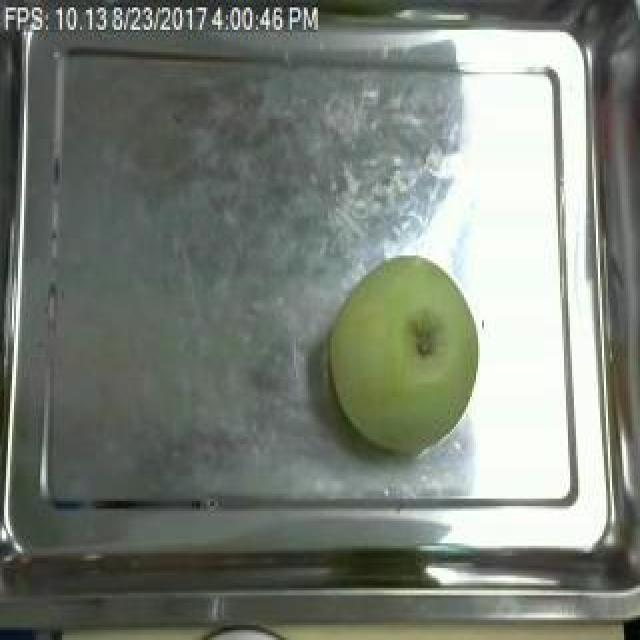Rotten Apple: (321, 246, 487, 457)
